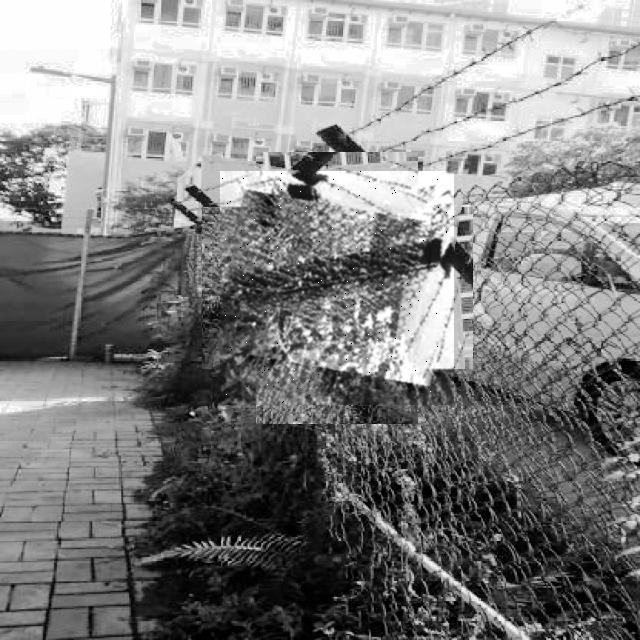anomaly-fence: (220, 171, 454, 405)
